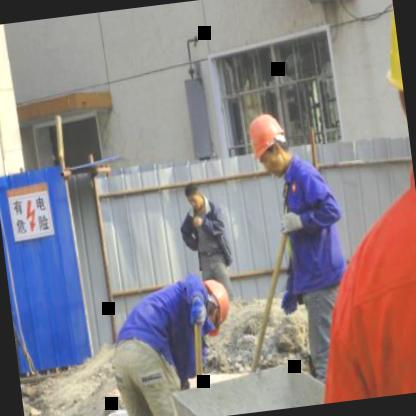head: (175, 178, 207, 212)
helmet: (375, 0, 410, 152), (244, 110, 291, 180), (198, 274, 234, 340)
